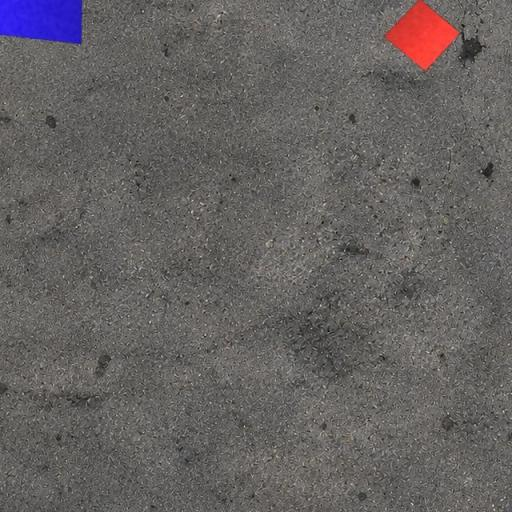RED_SQUARE: (383, 0, 461, 72)
